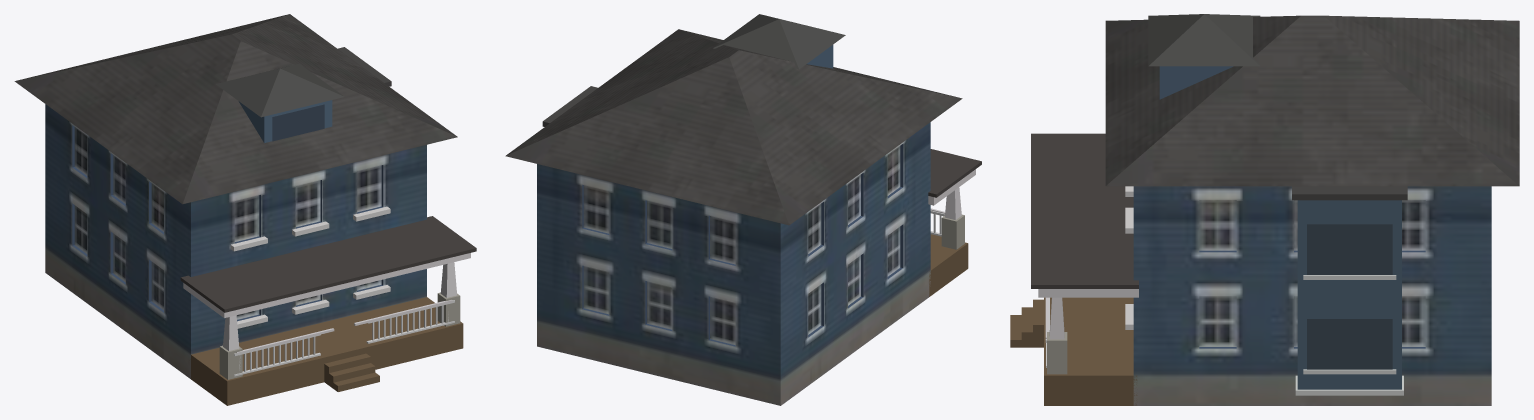
File: seattle_house_b.glb
The picture shows the model from 3 angles, left to right: view 1: azimuth 30°, elevation 25°; view 2: azimuth 150°, elevation 25°; view 3: azimuth 270°, elevation 25°; orthographic projection. The views are drawn at different scales.
Parts seen in each view (by area): view 1: seattle_house_b; view 2: seattle_house_b; view 3: seattle_house_b.
Part boxes in pixels (<box>): seattle_house_b: <box>14,14,476,405</box>; seattle_house_b: <box>505,14,981,405</box>; seattle_house_b: <box>1010,14,1519,405</box>.
Size of the model in its own units: 10.85 by 9.5 by 13.65.
Materials: 1 (1 with a texture image).
